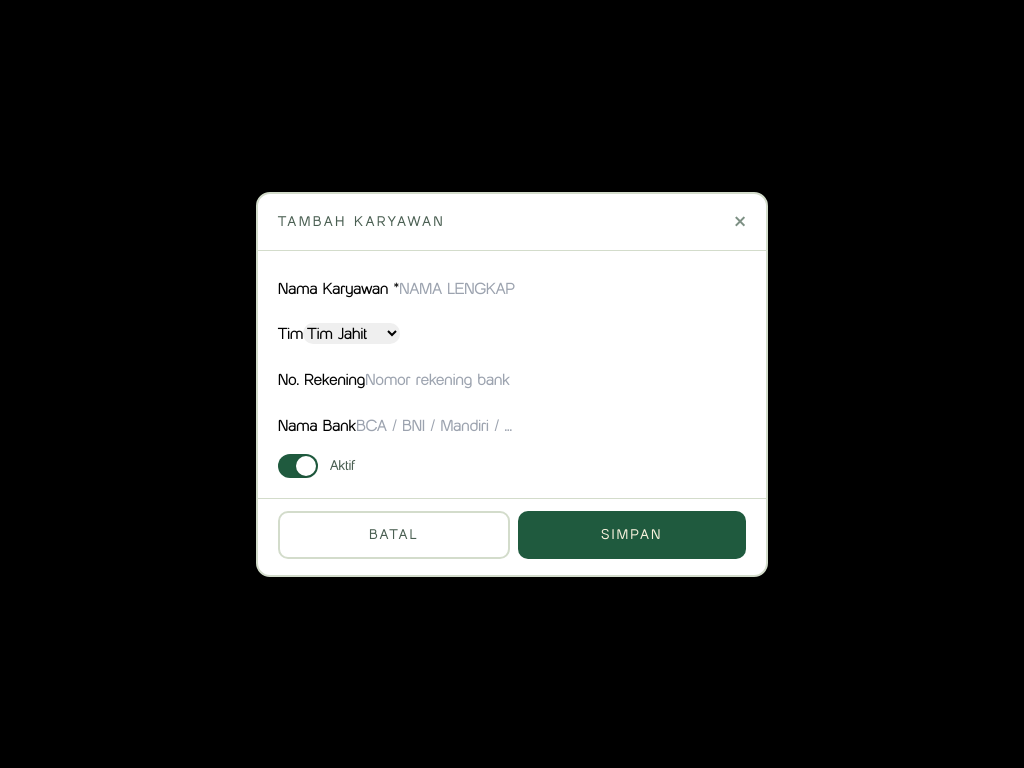
Test: KaryawanForm › toggles aktif state when toggle div clicked
The width and height of the screenshot is (1024, 768).
Expected: the text "Aktif" is shown, [330,456,354,476]
Step 1. Click the element with class "items-center" next to "Aktif" → (298, 466), box [278,454,318,478]
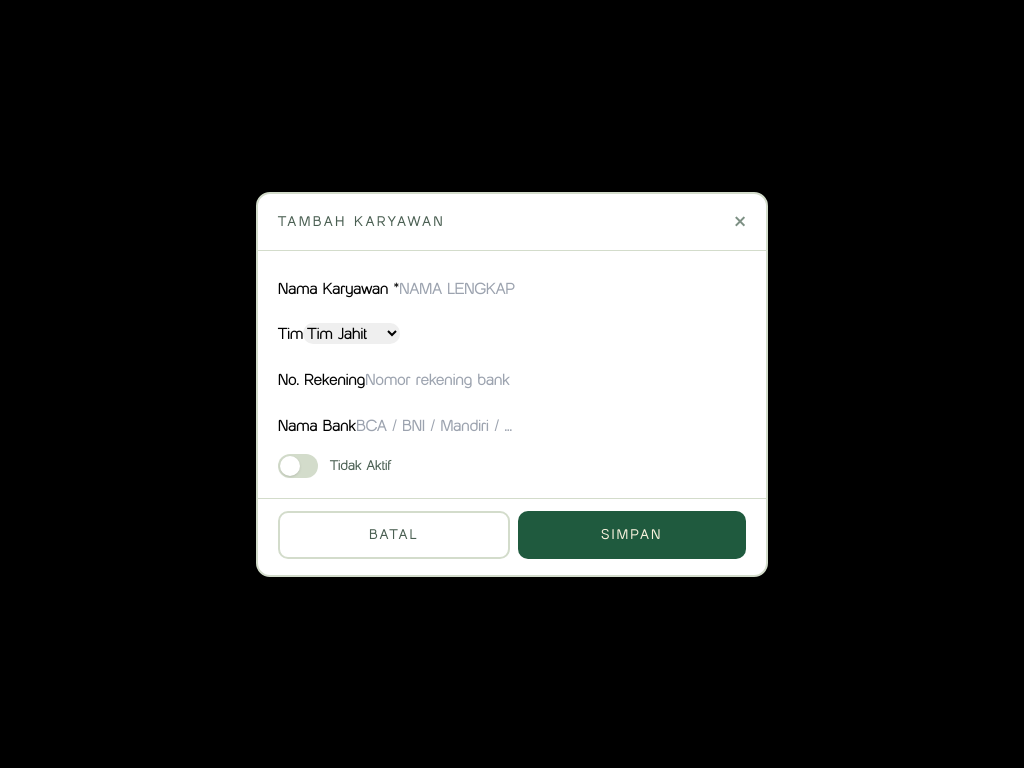
Now the text "Tidak Aktif" is shown, box [330,456,391,476]
